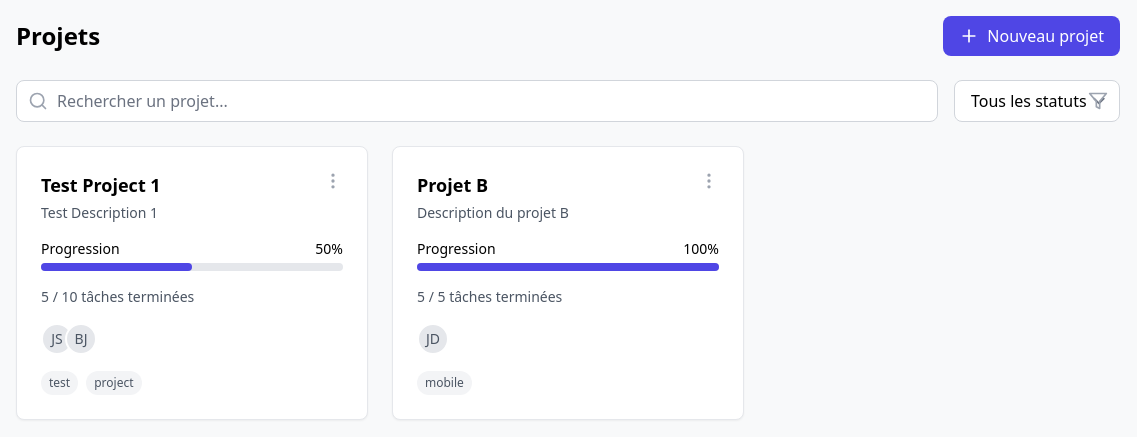
Test: ProjectList › devrait filtrer les projets par statut
Check: the heading "Test Project 1" is shown, box x1=41 y1=171 x2=161 y2=199
Select "Terminés" in the dropdown: (1037, 101) x1=954 y1=80 x2=1120 y2=122
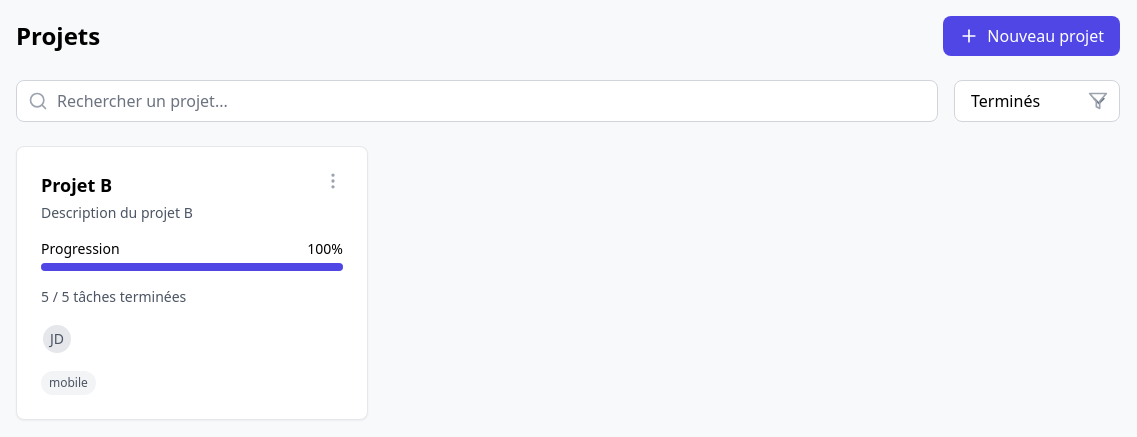
Check: the heading "Projet B" is shown, box x1=41 y1=173 x2=112 y2=197
Check: the heading "Test Project 1" is gone
